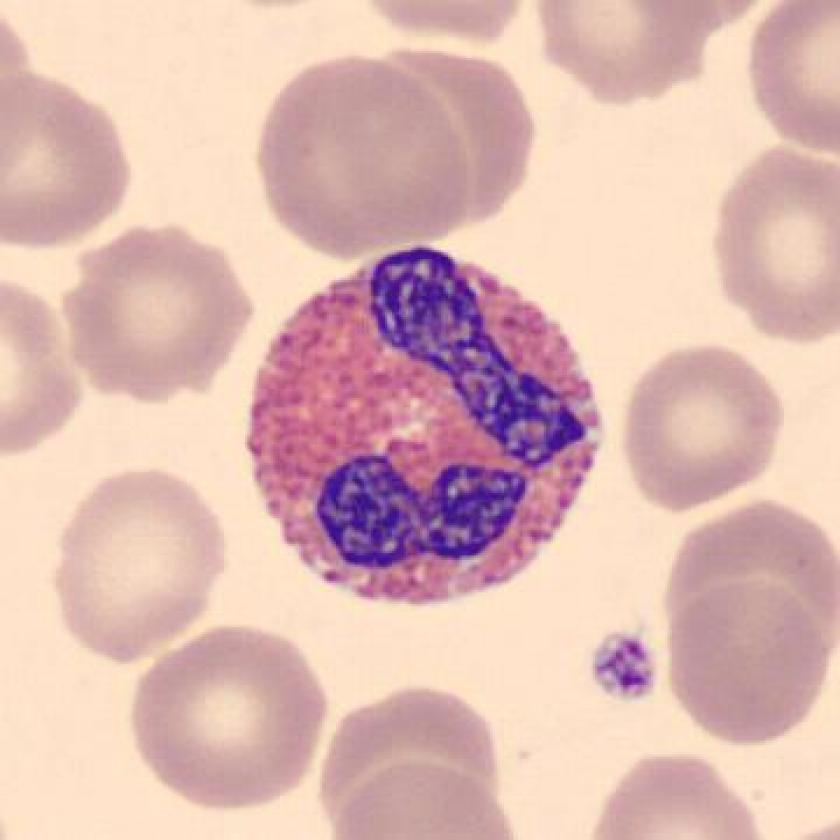eosinophil: (232, 244, 617, 614)
